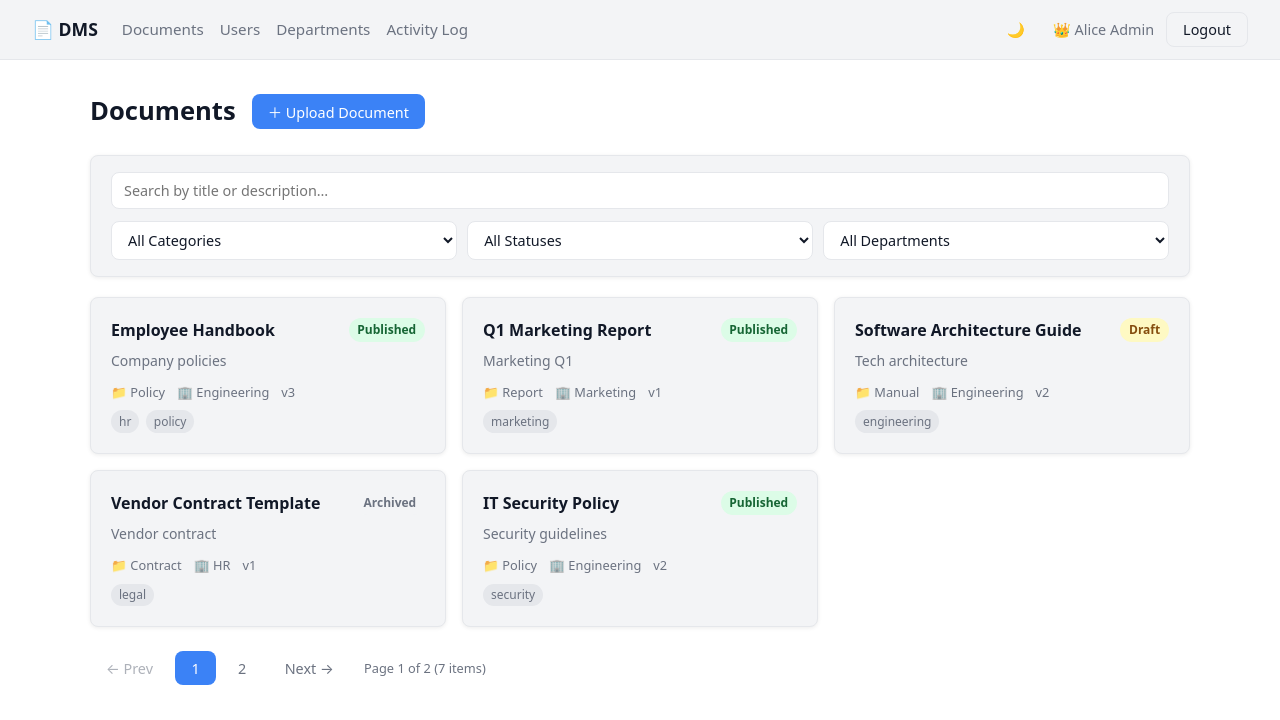
Test: Document List Page › navigates to next page
The width and height of the screenshot is (1280, 720).
Click the button "Next →" at (310, 669), box [269,652,350,685]
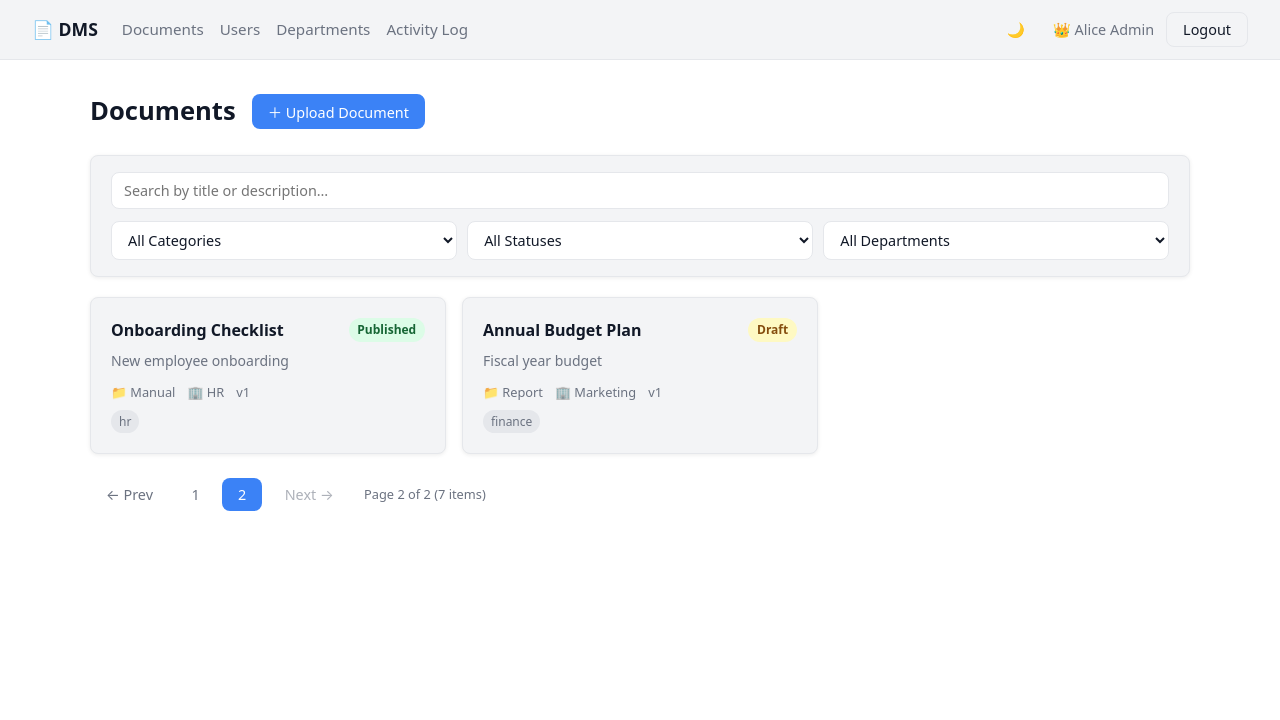
Result: the text "Page 2 of" is shown at [364,485,486,504]
